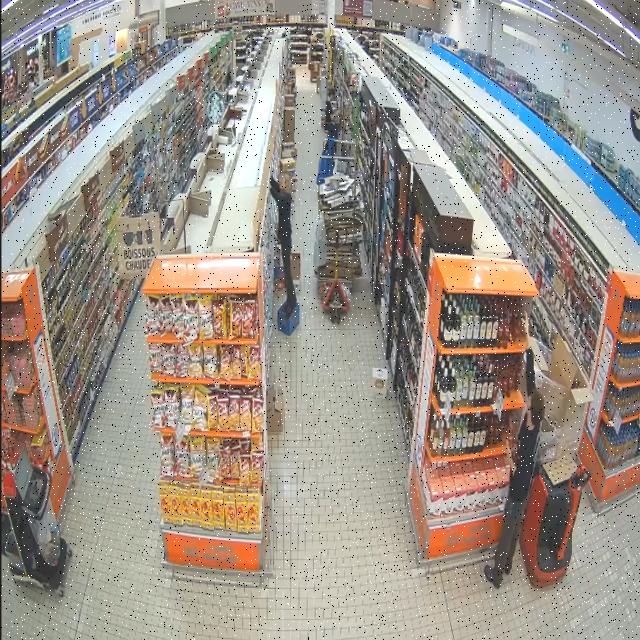article: (510, 319, 523, 342), (511, 431, 519, 466), (508, 419, 513, 449)
hands: (521, 312, 530, 347), (506, 444, 515, 472)
person: (484, 313, 545, 587), (270, 174, 296, 316)
